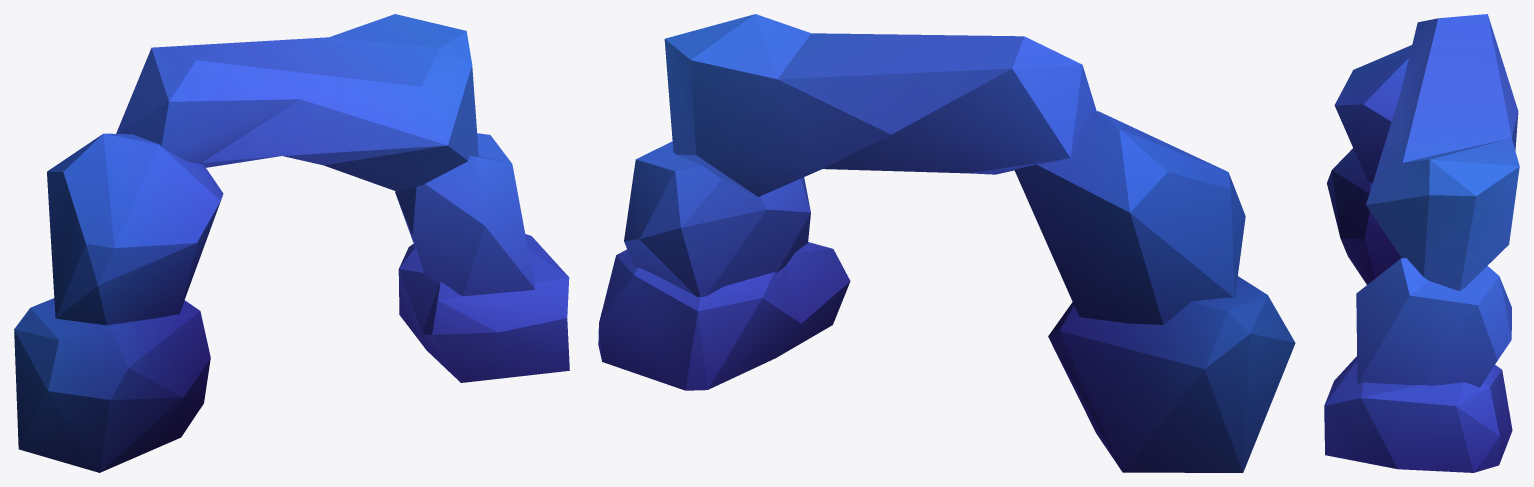
The model's file is Terrain_Snow_Rock_2.fbx.
3 views of the same model, side by side, from view 1: azimuth 30°, elevation 25°; view 2: azimuth 150°, elevation 25°; view 3: azimuth 270°, elevation 25° (orthographic). The views are drawn at different scales.
Parts seen in each view (by area): view 1: terrain_wall_401_3_LOD1; view 2: terrain_wall_401_3_LOD1; view 3: terrain_wall_401_3_LOD1.
Part boxes in pixels (left/top/right/bottom): terrain_wall_401_3_LOD1: left=14, top=14, right=569, bottom=472; terrain_wall_401_3_LOD1: left=598, top=14, right=1295, bottom=472; terrain_wall_401_3_LOD1: left=1324, top=14, right=1519, bottom=472.
Size of the model in its own units: 877 by 524 by 307.
Materials: 1 (1 with a texture image).
